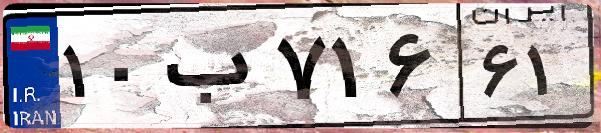0: (110, 28, 158, 98)
1: (330, 28, 385, 110), (57, 26, 110, 100), (525, 38, 570, 115)
6: (385, 28, 445, 110), (475, 38, 525, 113)
7: (270, 28, 330, 110)
ب: (158, 20, 270, 120)
